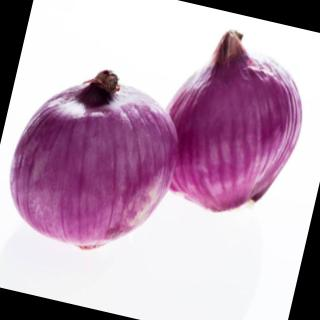Bawang Merah: (1, 50, 195, 269), (143, 15, 320, 228)
